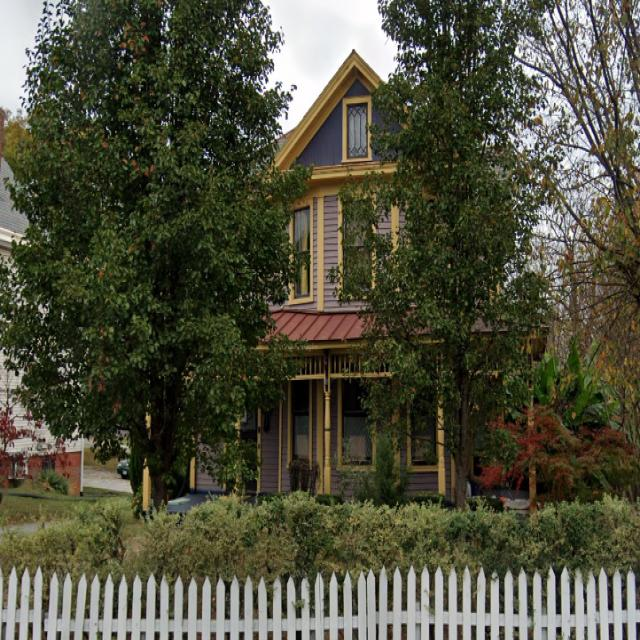House: (142, 49, 550, 514), (0, 154, 87, 501)
